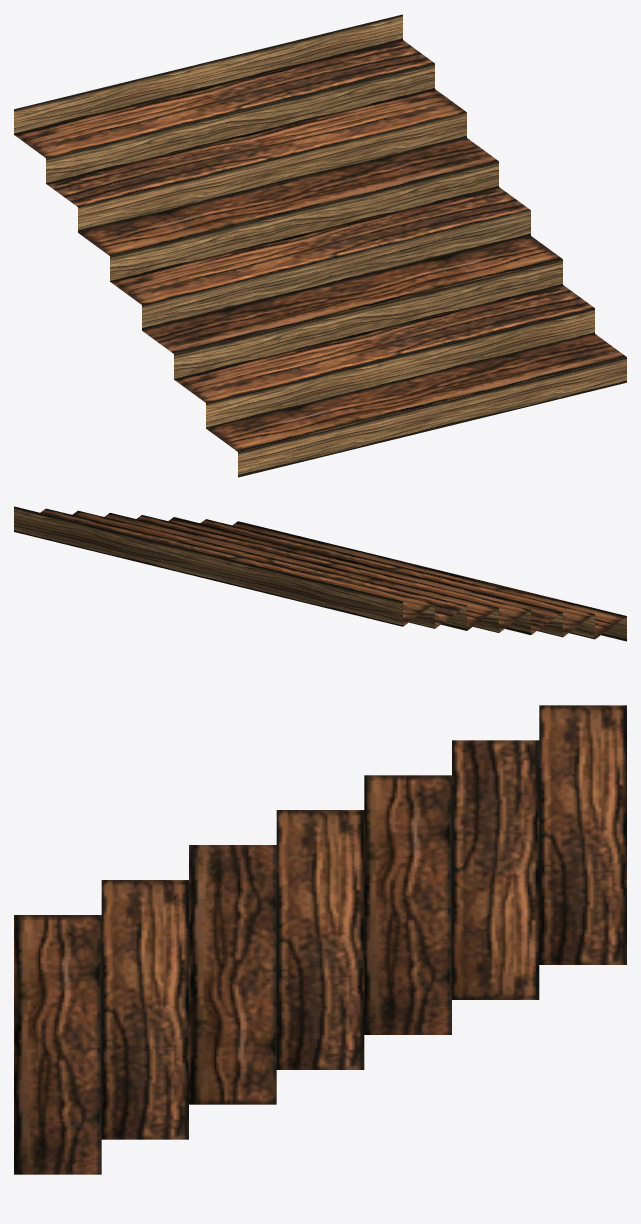
File: LAKETOWN_EXTERIOR_PS_LT_STEP_01.fbx
3 renders of one model, top to bottom at view 1: azimuth 30°, elevation 25°; view 2: azimuth 150°, elevation 25°; view 3: azimuth 270°, elevation 25°, orthographic. The views are drawn at different scales.
Visible parts, largest first — view 1: LAKETOWN_EXTERIOR_PS_LT_STEP_01; view 2: LAKETOWN_EXTERIOR_PS_LT_STEP_01; view 3: LAKETOWN_EXTERIOR_PS_LT_STEP_01.
Part boxes in pixels (x1,y1,x2,y2): LAKETOWN_EXTERIOR_PS_LT_STEP_01: (14,14,626,477); LAKETOWN_EXTERIOR_PS_LT_STEP_01: (14,506,626,641); LAKETOWN_EXTERIOR_PS_LT_STEP_01: (14,705,626,1174).
Bounding box in the file's own units: 35085 × 17608 × 35000.
Materials: 2 (2 with a texture image).
